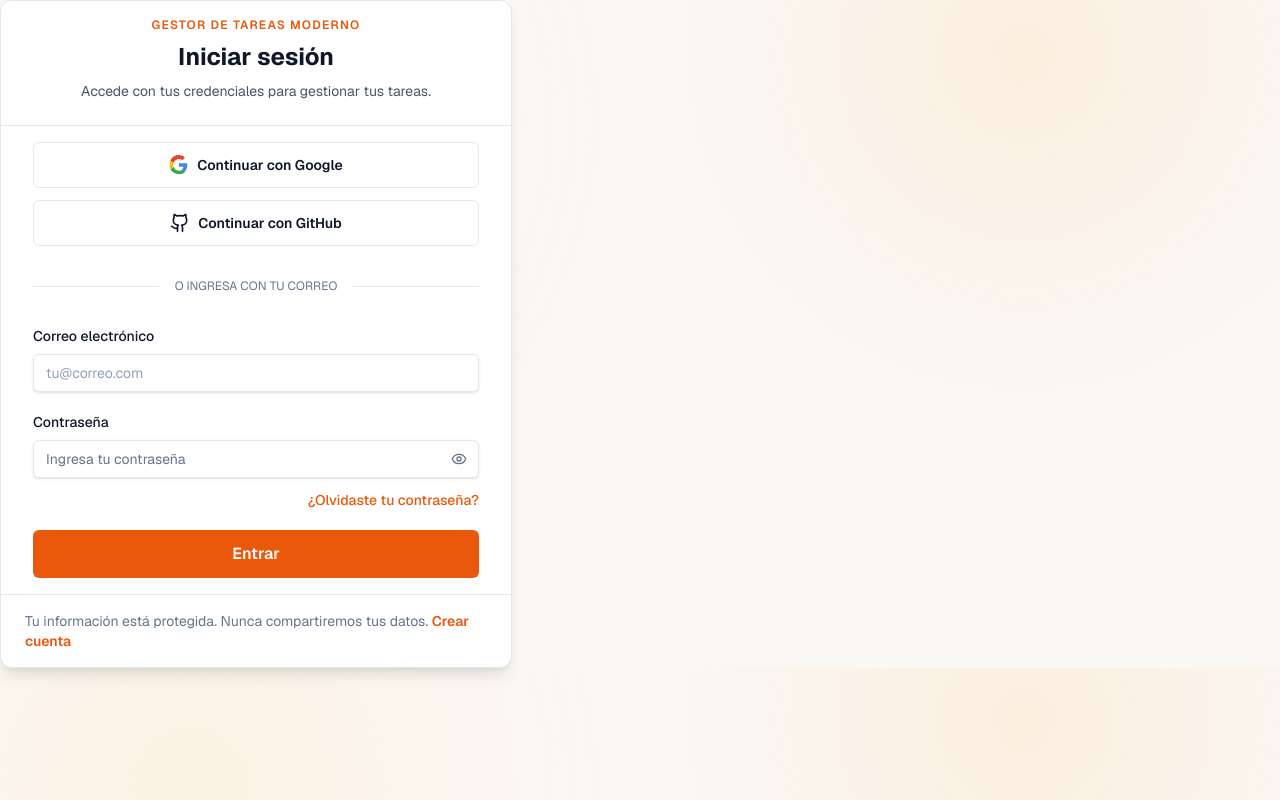
Scenario: LoginFormContainer › muestra el error devuelto por el servicio y no persiste tokens
In the field labelled "Correo electrónico": x=256, y=373 [33, 354, 479, 392], type "user@example.com"
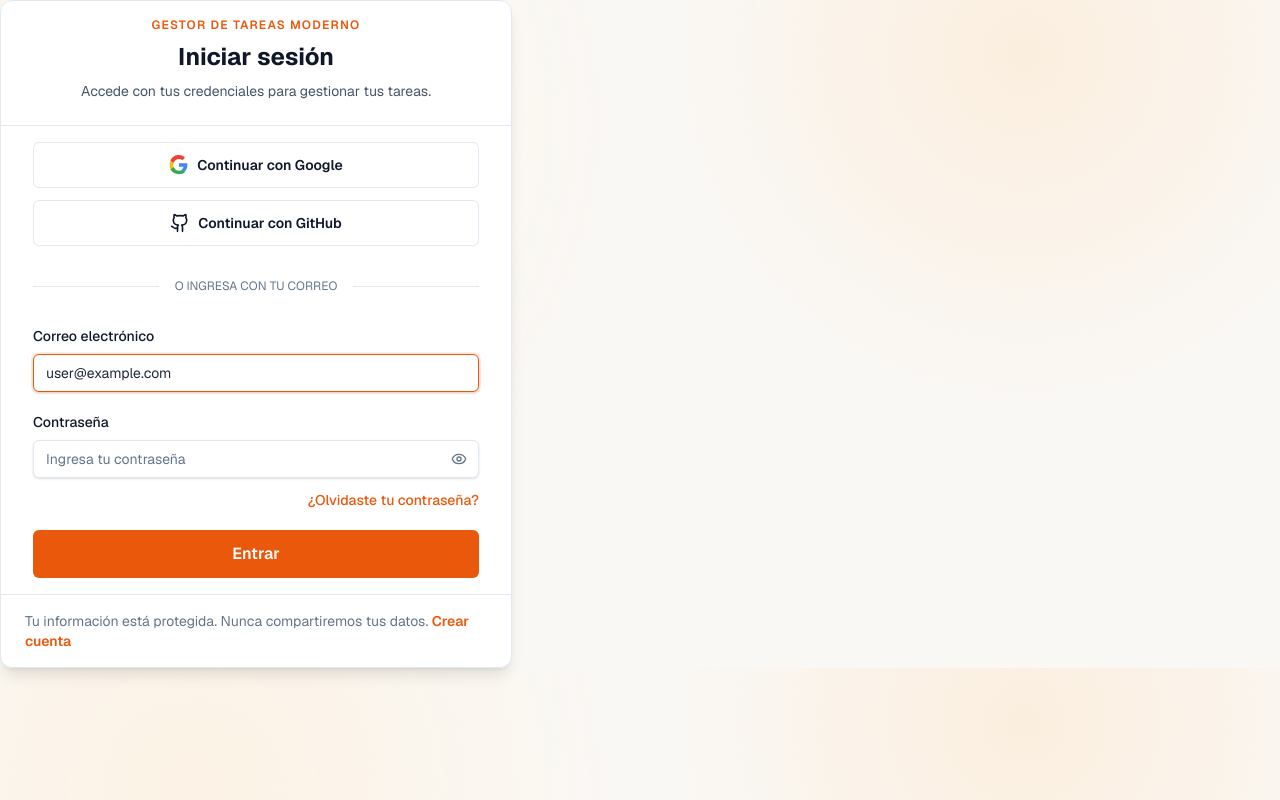
In the password field labelled "Contraseña": x=256, y=459 [33, 440, 479, 478], type "strong-pass"
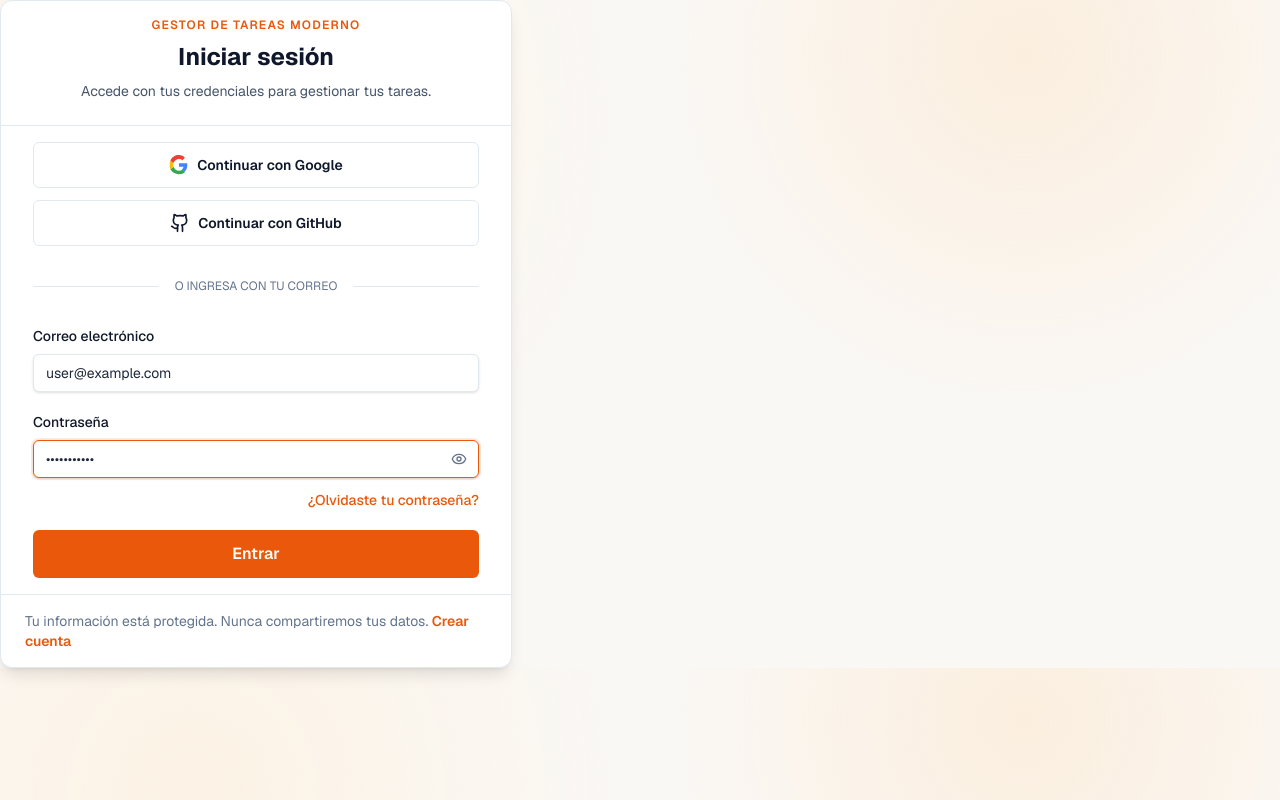
Click the button "Entrar": x=256, y=554 [33, 530, 479, 578]
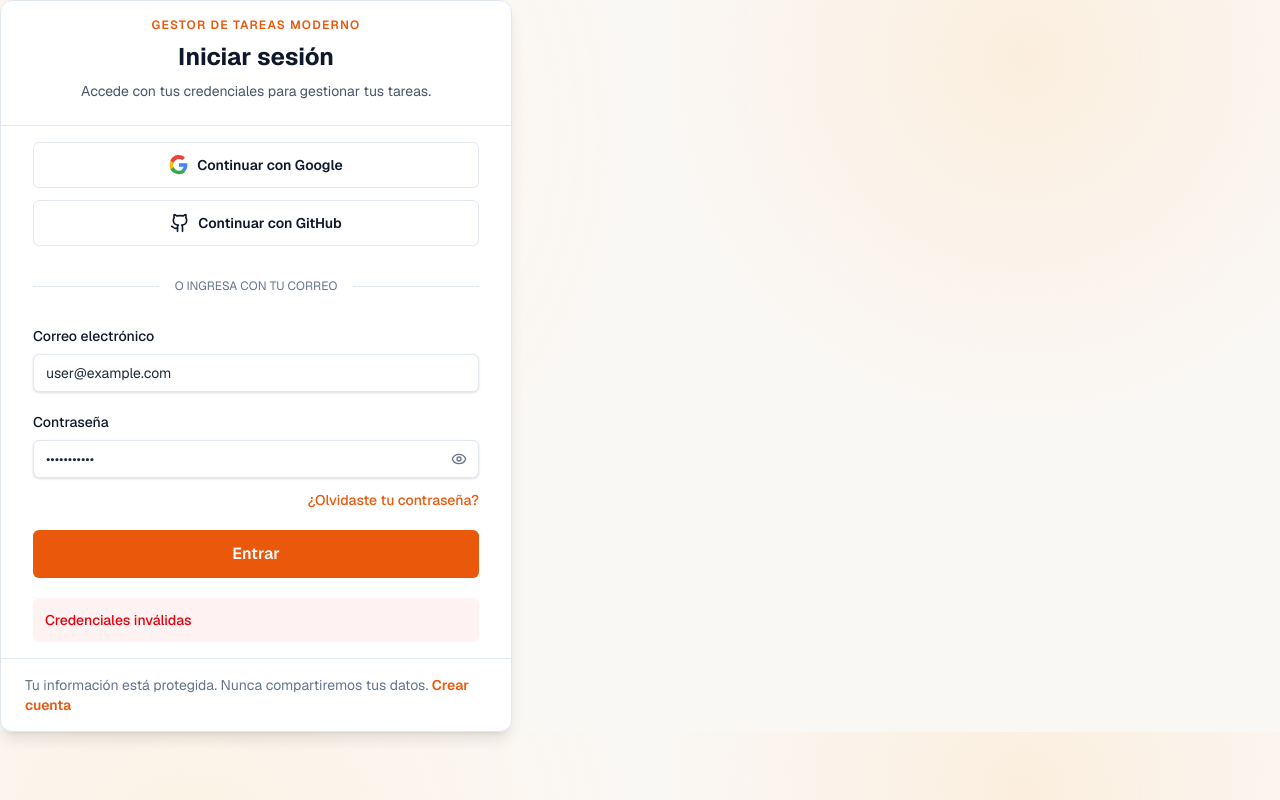
Check: the text "Credenciales inválidas" is shown, box [45, 611, 192, 629]
